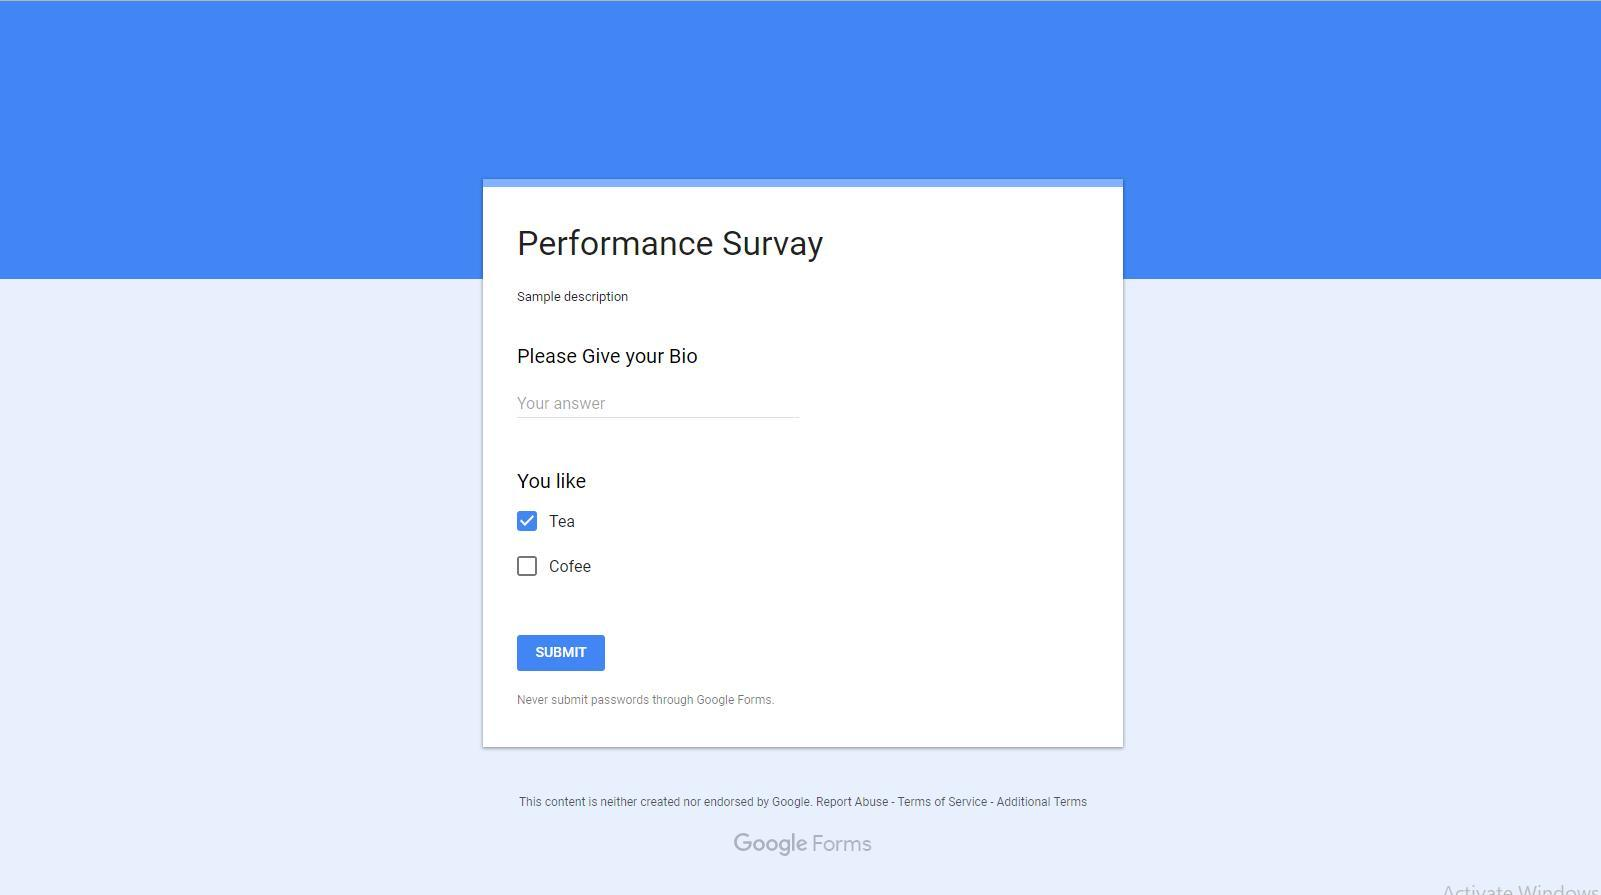button: (519, 636, 607, 672)
checkbox: (518, 512, 539, 534), (517, 557, 537, 578)
input: (509, 388, 801, 420)
label: (510, 344, 702, 373), (514, 471, 593, 494), (546, 555, 596, 581), (544, 510, 586, 530)
